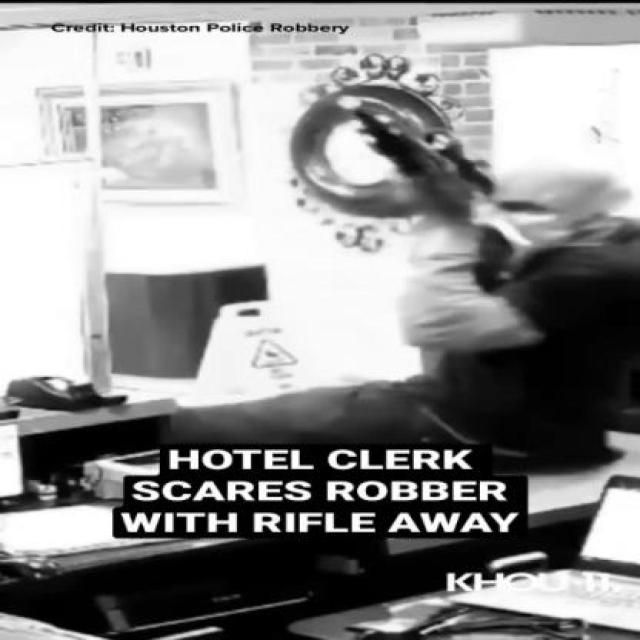weapon: (348, 104, 528, 301)
